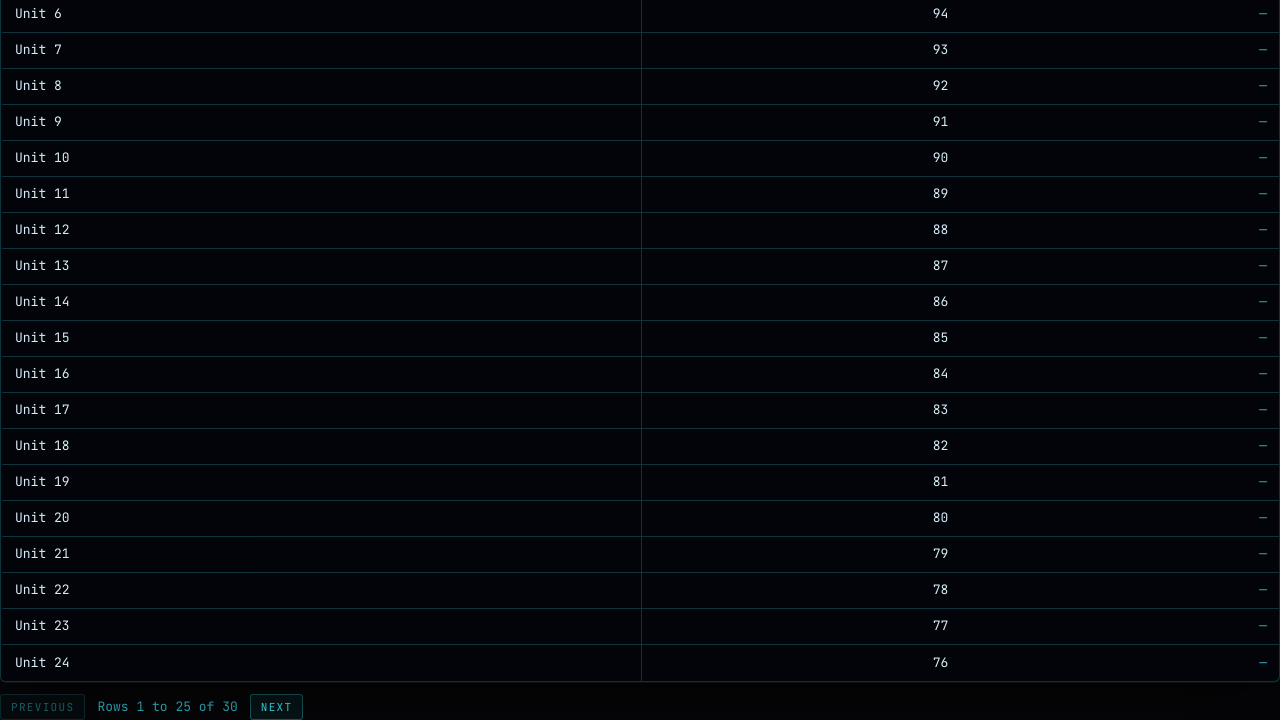
units table › returns to page 1 when the kind filter changes
The width and height of the screenshot is (1280, 720).
(page scrolled)
What coordinates should you click on to do the following:
click the button "Next"
I would click on:
 (277, 707)
Its box is [250,694,304,719].
(page scrolled)
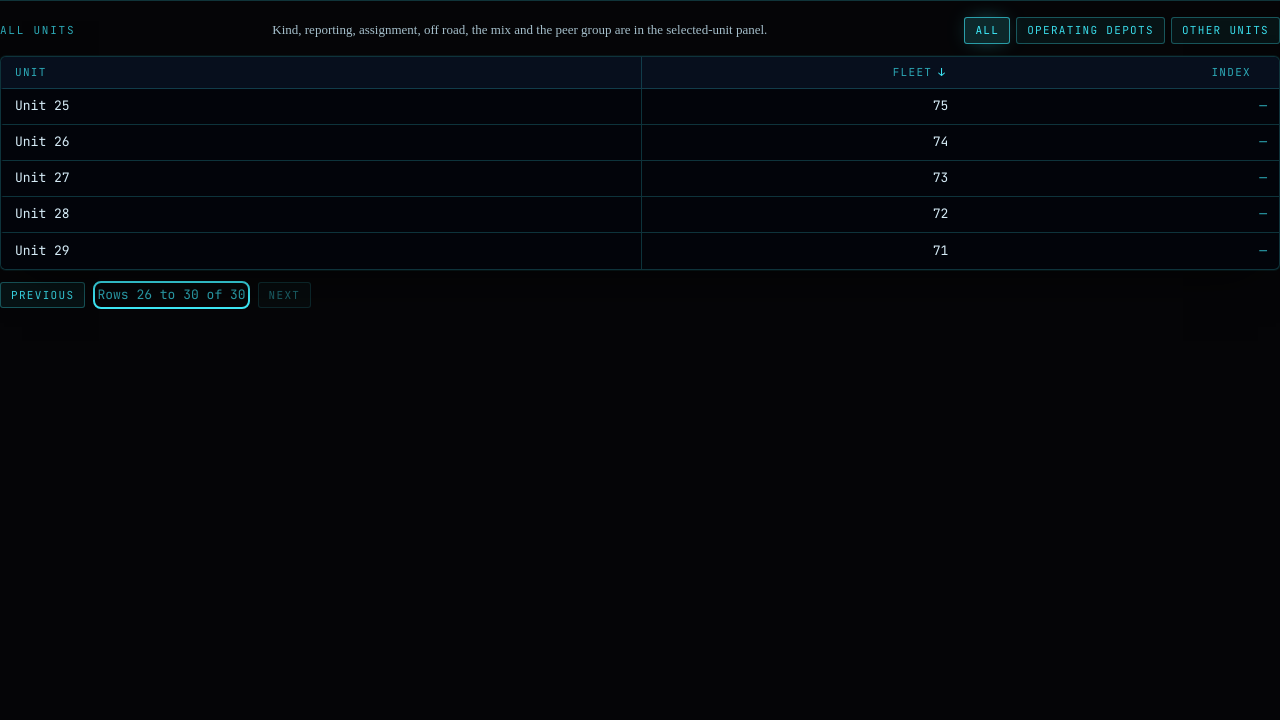
What coordinates should you click on to do the following:
click the button "Operating depots"
I would click on:
 (1090, 30)
Its box is [1016,17,1165,44].
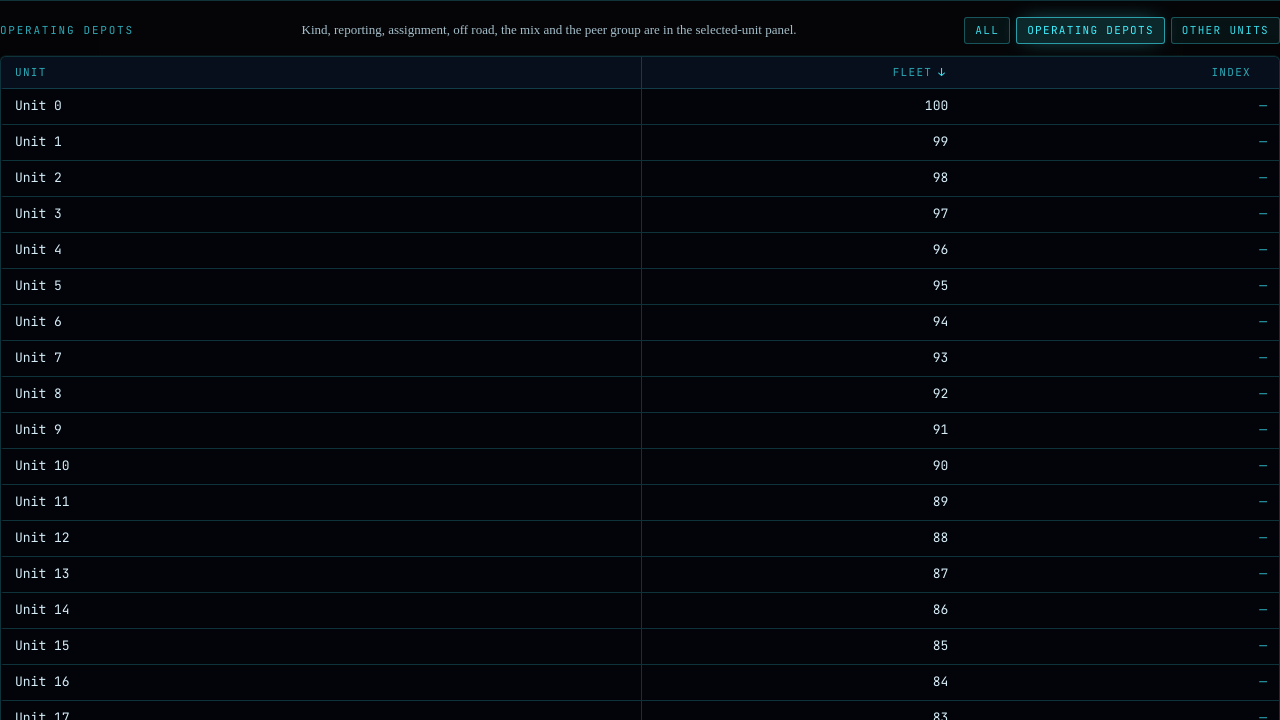
expect the cell "Unit 0" is shown: met, box [1,88,642,124]
